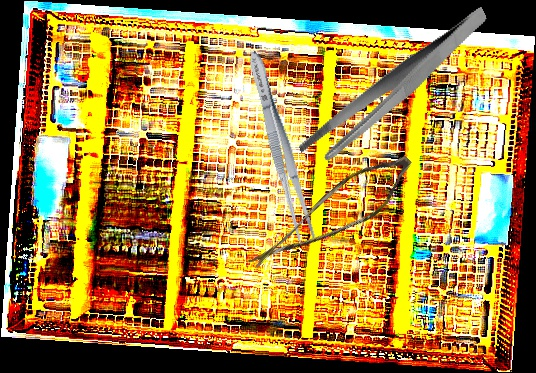Dressing Forceps: (276, 4, 514, 171), (241, 48, 320, 245)
Micro Scissor: (246, 129, 421, 304)
